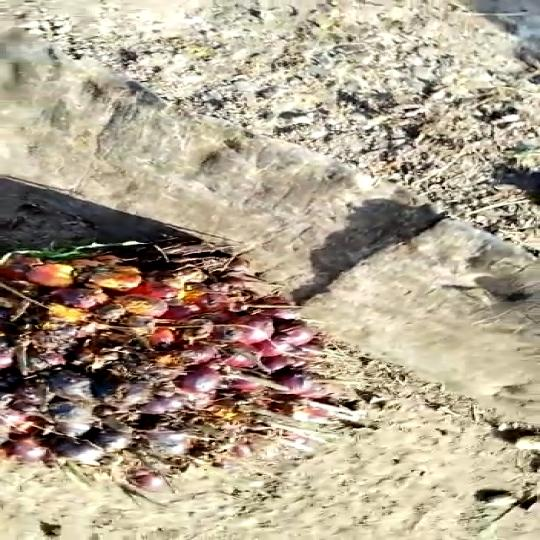masak: (0, 221, 325, 497)
